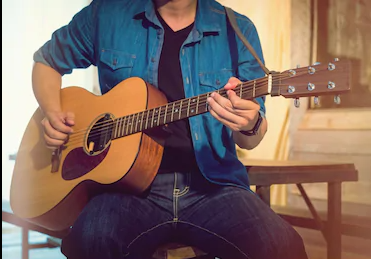fretboard: (111, 75, 270, 140)
